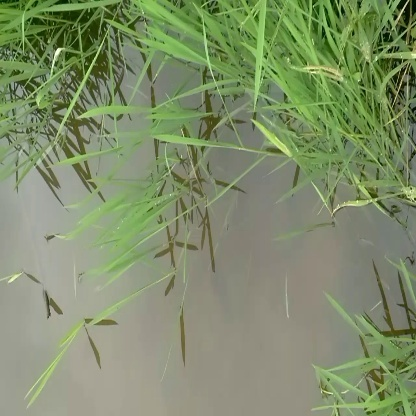grass: (68, 173, 194, 282)
